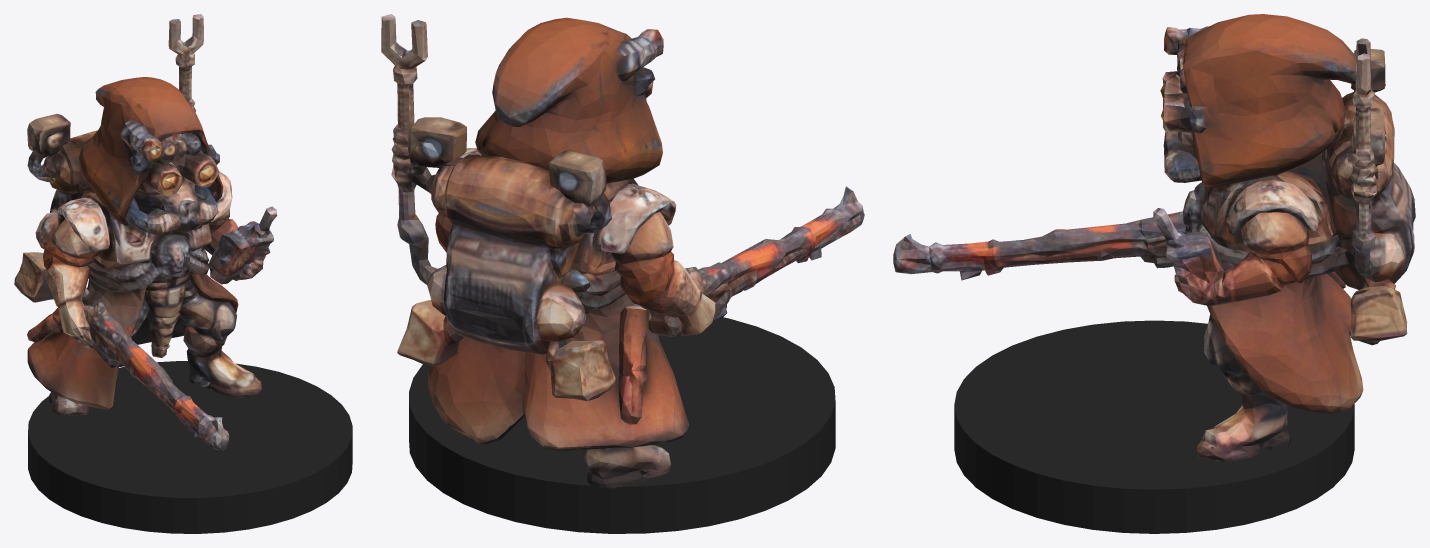
The model's file is hc-skitarii-ranger-surveyor.glb.
3 views of the same model, side by side, from view 1: azimuth 30°, elevation 25°; view 2: azimuth 150°, elevation 25°; view 3: azimuth 270°, elevation 25° (orthographic). The views are drawn at different scales.
Parts seen in each view (by area): view 1: figure, base; view 2: figure, base; view 3: figure, base.
Boxes of the visible parts, x1,y1,x2,y2 form: figure: [14, 14, 277, 450]; base: [28, 361, 352, 533]; figure: [381, 14, 864, 488]; base: [409, 310, 835, 533]; figure: [893, 14, 1415, 461]; base: [954, 320, 1354, 533].
Size of the model in its own units: 0.9843 by 1.22 by 1.28.
Materials: 2 (1 with a texture image).
